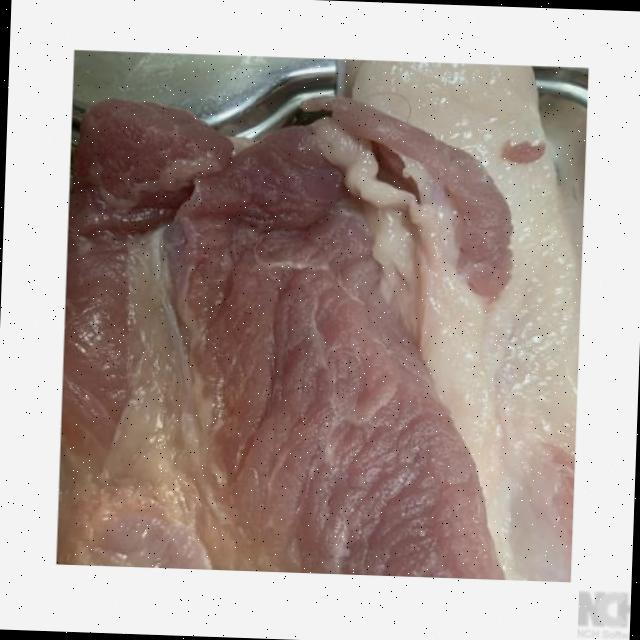rotten meat: (35, 28, 609, 591)
